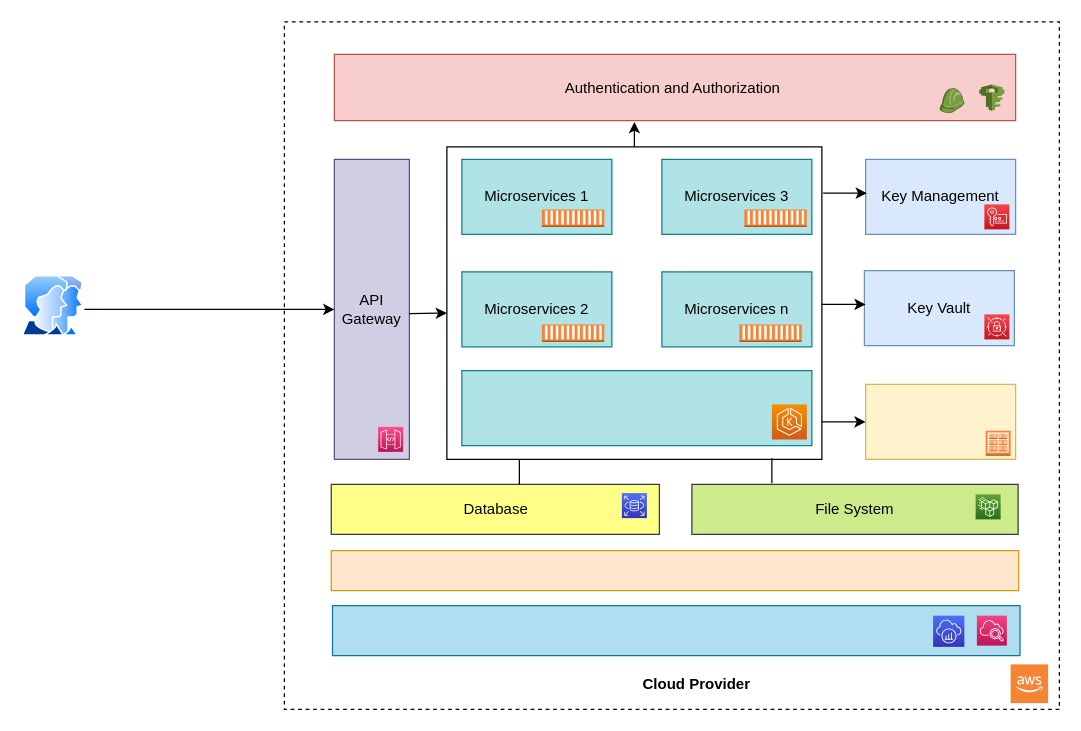
The diagram is 1081 pixels wide and 731 high, and some of its shapes have lost their labels. The box of each missing label's shape, as (x1, y1, x2, y2) in pixels:
Container Orchestrator: (461, 369, 812, 446)
Container Registry: (864, 383, 1016, 459)
Obervability: (331, 604, 1020, 656)
Runtime Assessment: (330, 549, 1019, 591)
User: (21, 275, 84, 336)
